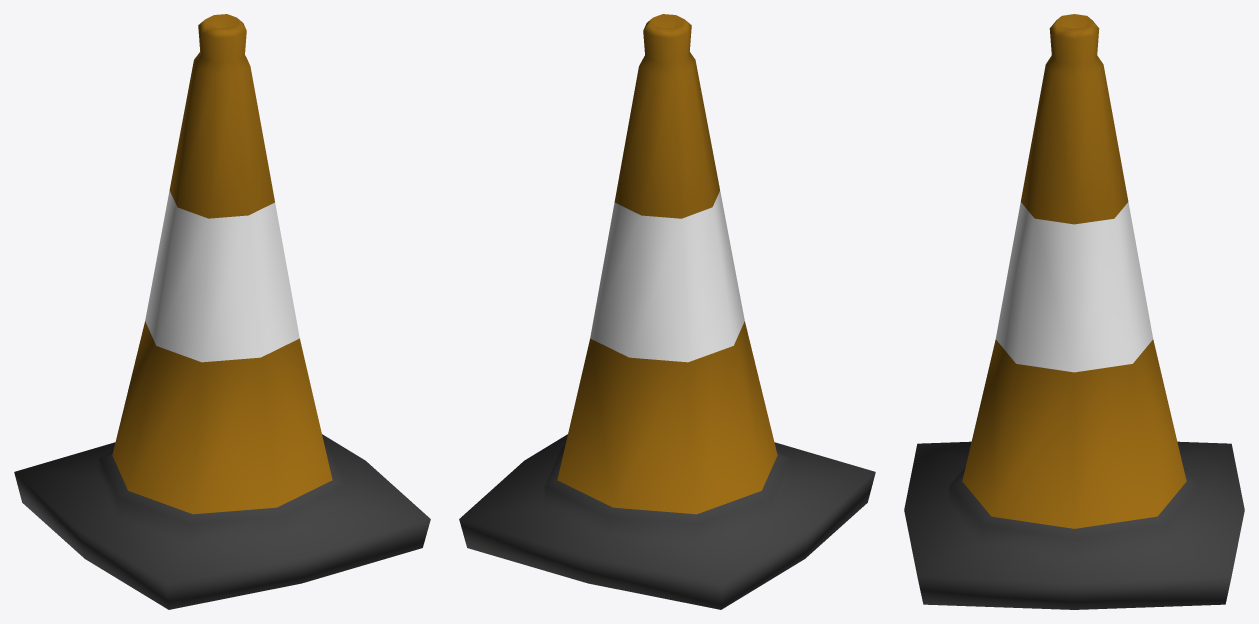
File: TrafficCone.fbx
3 renders of one model, left to right at view 1: azimuth 30°, elevation 25°; view 2: azimuth 150°, elevation 25°; view 3: azimuth 270°, elevation 25°, orthographic. The views are drawn at different scales.
Parts seen in each view (by area): view 1: Cube; view 2: Cube; view 3: Cube.
Part boxes in pixels (x1,y1,x2,y2): Cube: (14,14,430,609); Cube: (459,14,875,609); Cube: (904,14,1244,609).
Bounding box in the file's own units: 427 × 719 × 427.
